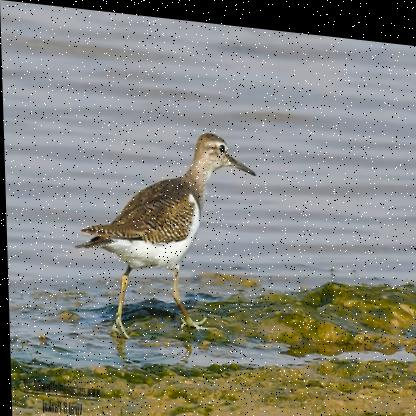Burung: (69, 112, 261, 345)
